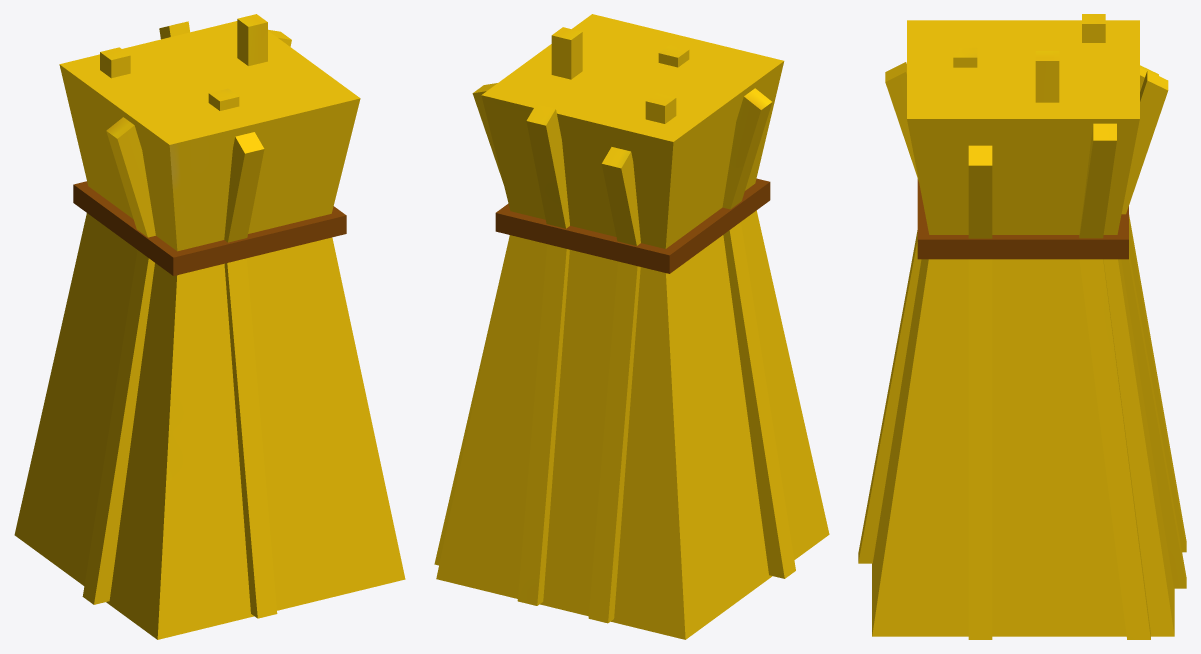
File: kit-tent-canvas.glb
The picture shows the model from 3 angles, left to right: view 1: azimuth 30°, elevation 25°; view 2: azimuth 150°, elevation 25°; view 3: azimuth 270°, elevation 25°; orthographic projection. The views are drawn at different scales.
Parts seen in each view (by area): view 1: Cube.185; view 2: Cube.185; view 3: Cube.185.
Part boxes in pixels (left/top/right/bottom): Cube.185: left=14, top=14, right=405, bottom=639; Cube.185: left=434, top=14, right=829, bottom=639; Cube.185: left=858, top=14, right=1186, bottom=639.
Size of the model in its own units: 0.4778 by 0.8521 by 0.4658.
1 material, 1 textured.
